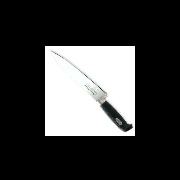k1: (47, 47, 110, 108)
